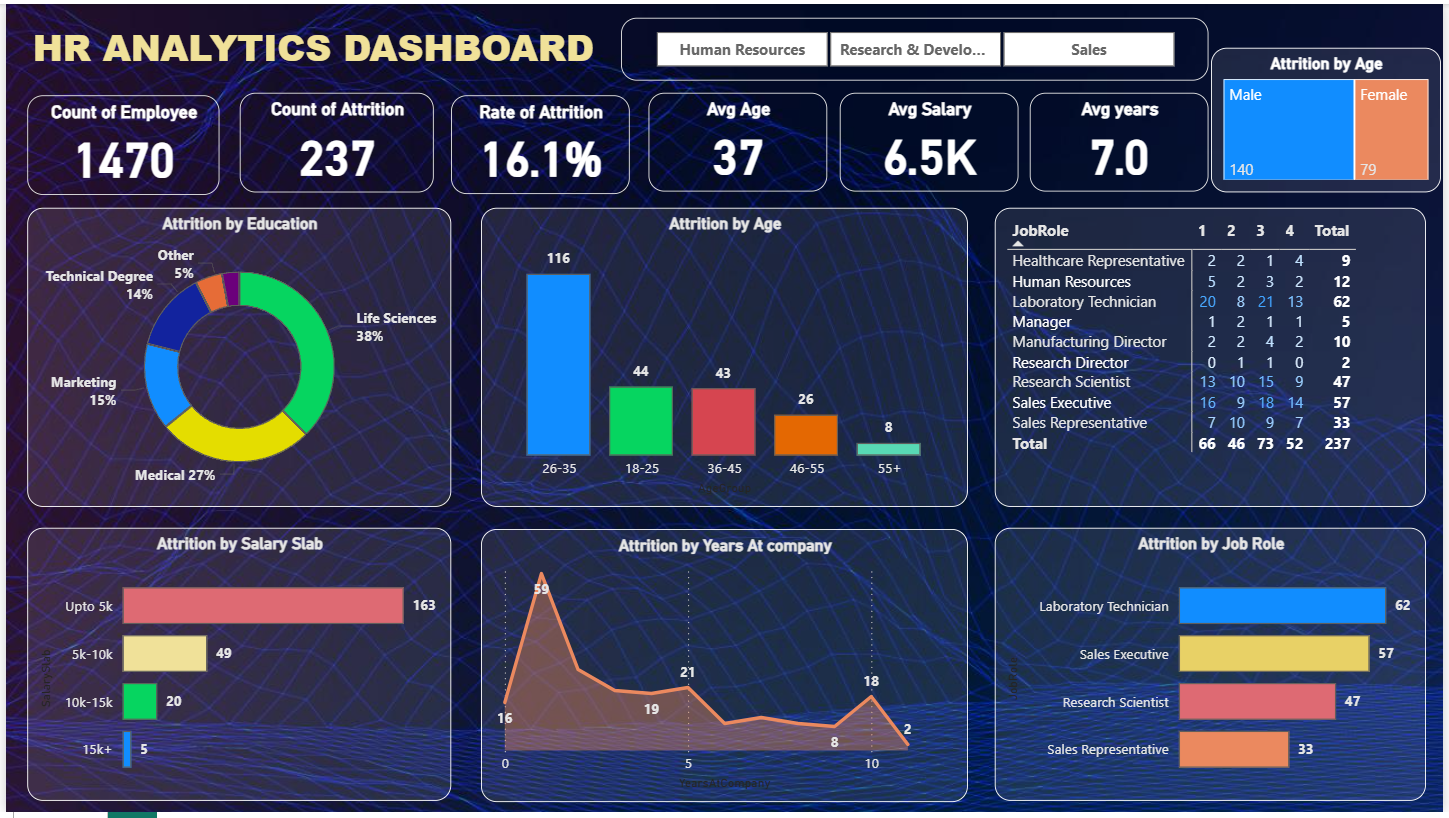

This screenshot's page, from the dashboard's own definition file:
{"tool":"powerbi","page":{"name":"Page 1","canvas":[1280,720],"ordinal":0},"visuals":[{"type":"card","title":"Count of Employee","fields":{"Values":["CountNonNull(HR_Analytics.EmpID)"]},"box":[19.2,81,171.5,89.2],"z":0},{"type":"card","title":"Count of Attrition","fields":{"Values":["Sum(HR_Analytics.AttritionCount)"]},"box":[208.6,79.6,172.9,89.2],"z":1000},{"type":"card","title":"Rate of Attrition","fields":{"Values":["HR_Analytics.AttritionRate"]},"box":[396.6,81,159.2,87.8],"z":2000},{"type":"card","title":"Avg Age","fields":{"Values":["Avg(HR_Analytics.Age)"]},"box":[572.2,79.6,159.2,87.8],"z":3000},{"type":"card","title":"Avg Salary","fields":{"Values":["Avg(HR_Analytics.MonthlyIncome)"]},"box":[742.4,79.6,159.2,87.8],"z":4000},{"type":"card","title":"Avg years","fields":{"Values":["Avg(HR_Analytics.YearsAtCompany)"]},"box":[911.2,79.6,159.2,87.8],"z":5000},{"type":"donutChart","title":"Attrition by Education","fields":{"Category":["HR_Analytics.EducationField"],"Y":["Sum(HR_Analytics.AttritionCount)"]},"box":[19.2,181.1,377.4,266.2],"z":6000},{"type":"columnChart","title":"Attrition by Age","fields":{"Category":["HR_Analytics.AgeGroup"],"Y":["Sum(HR_Analytics.AttritionCount)"]},"box":[422.6,181.1,433.6,266.2],"z":7000},{"type":"pivotTable","fields":{"Rows":["HR_Analytics.JobRole"],"Columns":["HR_Analytics.JobSatisfaction"],"Values":["Sum(HR_Analytics.AttritionCount)"]},"box":[881,181.1,384.2,266.2],"z":8000},{"type":"barChart","title":"Attrition by Salary Slab","fields":{"Category":["HR_Analytics.SalarySlab"],"Y":["Sum(HR_Analytics.AttritionCount)"]},"box":[19.2,466.6,377.4,242.9],"z":9000},{"type":"barChart","title":"Attrition by Job Role","fields":{"Y":["Sum(HR_Analytics.AttritionCount)"],"Category":["HR_Analytics.JobRole"]},"box":[881,466.6,384.2,242.9],"z":10000},{"type":"areaChart","title":"Attrition by Years At company","fields":{"Category":["HR_Analytics.YearsAtCompany"],"Y":["Sum(HR_Analytics.AttritionCount)"]},"box":[422.6,467.9,433.6,242.9],"z":11000},{"type":"treemap","title":"Attrition by Age","fields":{"Group":["HR_Analytics.Gender"],"Values":["Sum(HR_Analytics.AttritionCount)"]},"box":[1073.1,38.4,204.5,129],"z":12000},{"type":"slicer","fields":{"Values":["HR_Analytics.Department"]},"box":[547.5,12.3,522.8,56.3],"z":13000},{"type":"textbox","box":[19.2,11,513.2,57.6],"z":14000}]}

Visuals, with their boxes in screenshot pixels (x1, y1, x2, y2), scaled from the page's 1280x720 canvas onto the 1449x818 screenshot:
"Count of Employee" card: rect(22, 92, 216, 193)
"Count of Attrition" card: rect(236, 90, 432, 192)
"Rate of Attrition" card: rect(449, 92, 629, 192)
"Avg Age" card: rect(648, 90, 828, 190)
"Avg Salary" card: rect(840, 90, 1021, 190)
"Avg years" card: rect(1032, 90, 1212, 190)
"Attrition by Education" donutChart: rect(22, 206, 449, 508)
"Attrition by Age" columnChart: rect(478, 206, 969, 508)
pivotTable - HR_Analytics.JobRole x HR_Analytics.JobSatisfaction: rect(997, 206, 1432, 508)
"Attrition by Salary Slab" barChart: rect(22, 530, 449, 806)
"Attrition by Job Role" barChart: rect(997, 530, 1432, 806)
"Attrition by Years At company" areaChart: rect(478, 532, 969, 808)
"Attrition by Age" treemap: rect(1215, 44, 1446, 190)
slicer - HR_Analytics.Department: rect(620, 14, 1212, 78)
textbox: rect(22, 12, 603, 78)
